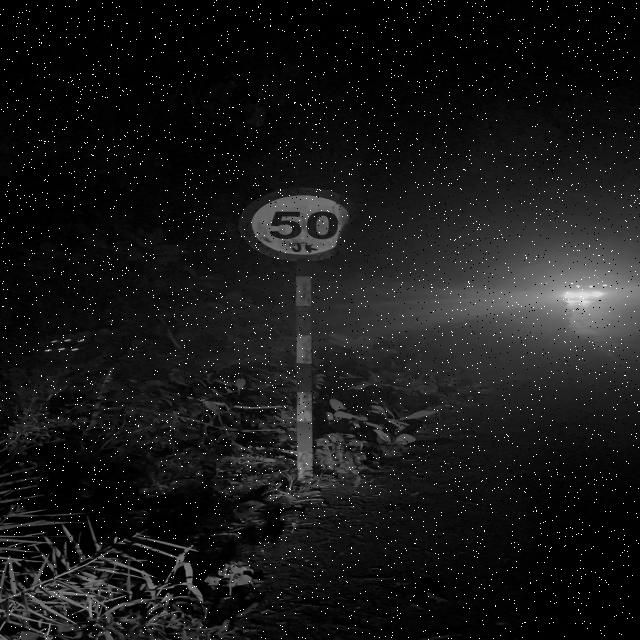speed_limit_50: (250, 192, 372, 262)
